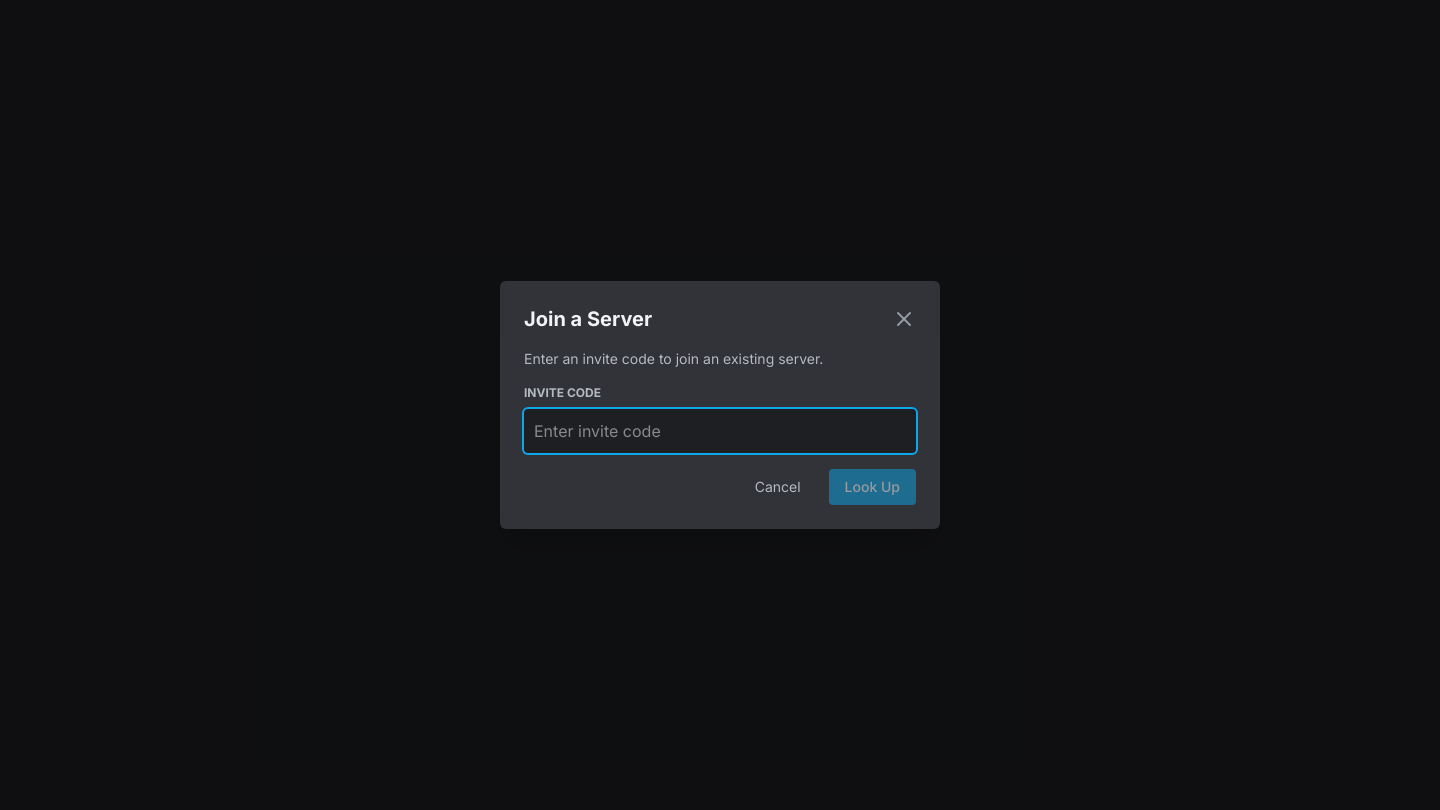
Test: JoinServerModal › displays error for invalid/expired invite code
In the field with placeholder "Enter invite code": [720, 431] box top-left (524, 409), bottom-right (916, 453), type "BADCODE"
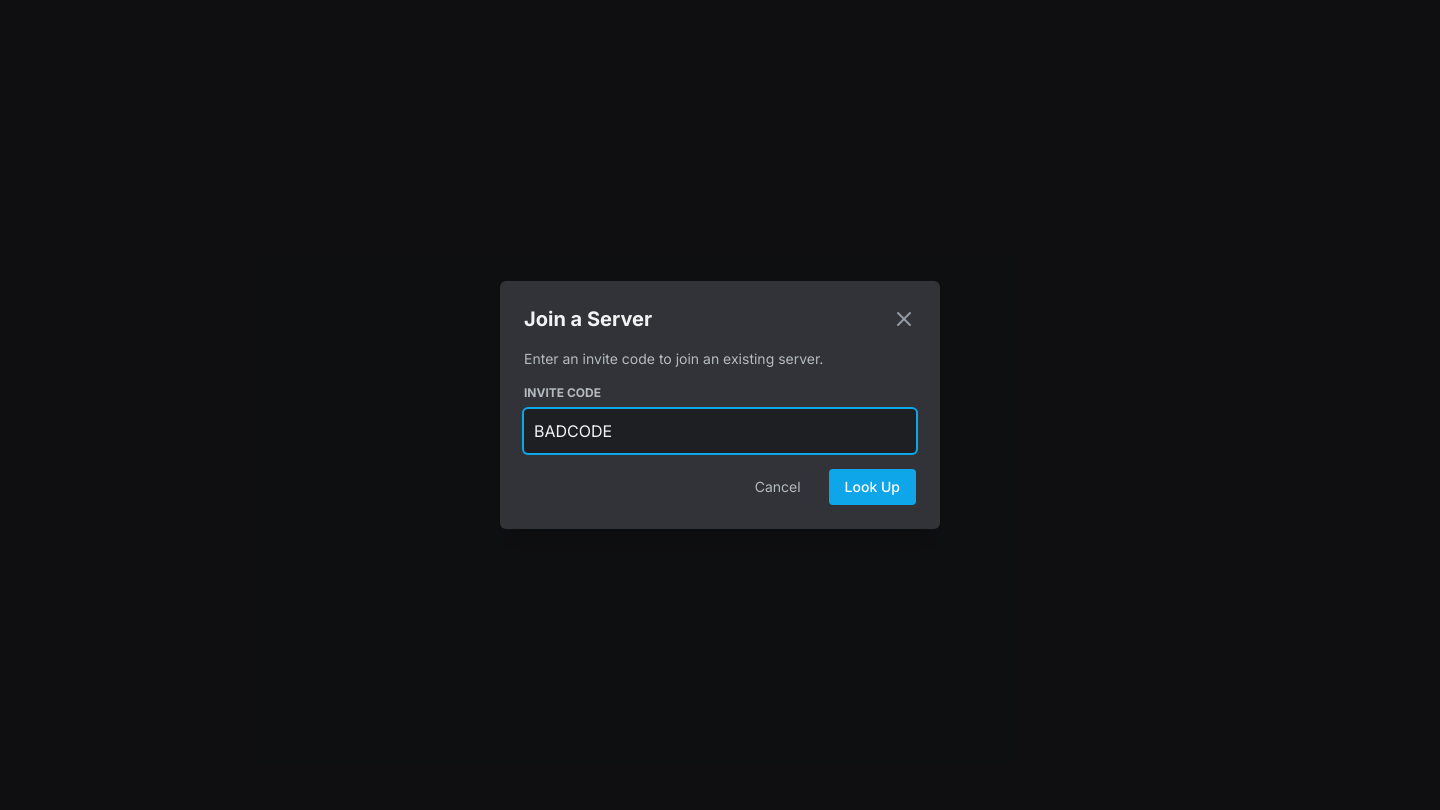
Click the button "Look Up": [872, 487] box top-left (829, 469), bottom-right (916, 505)
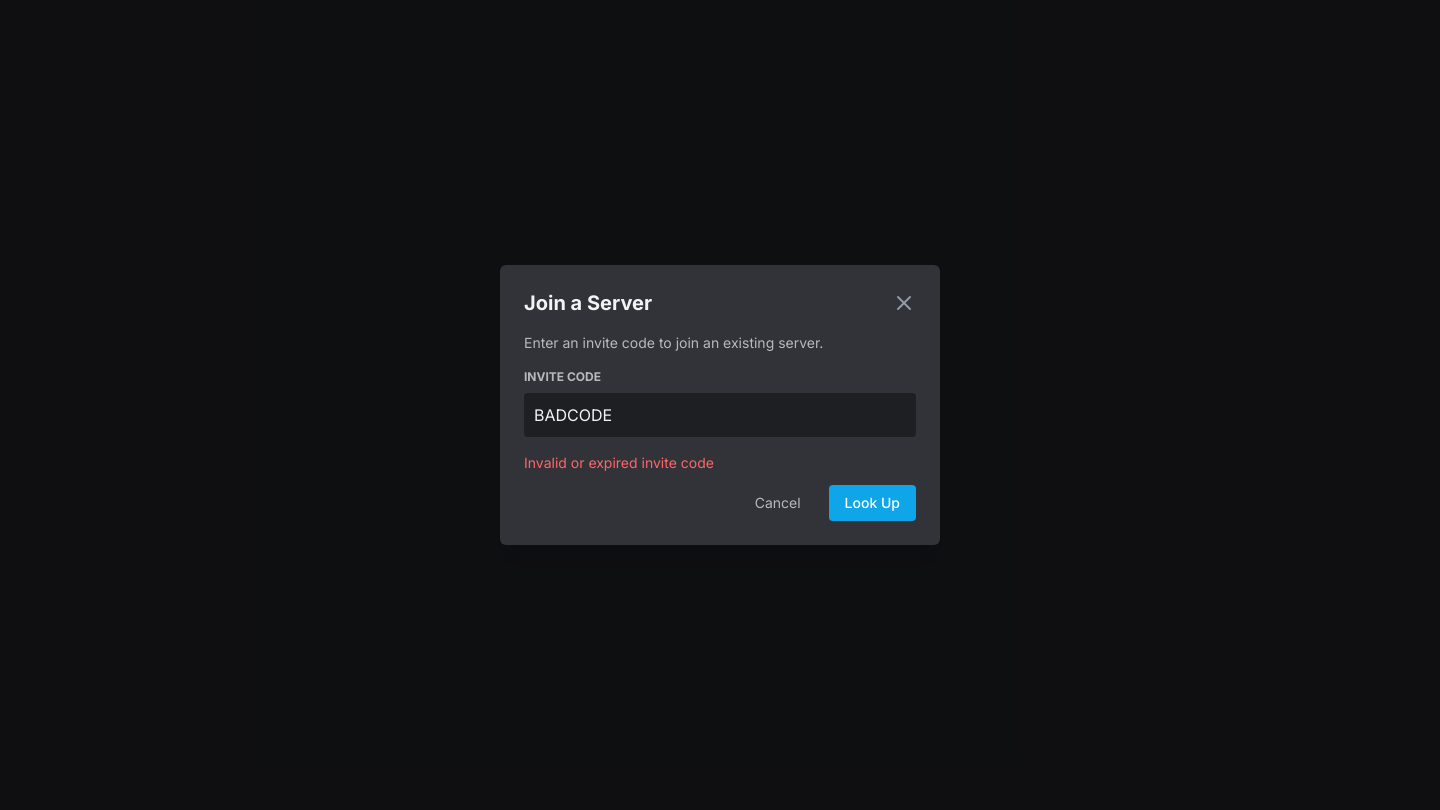
Expected: the text "Invalid or expired invite code" is shown, top-left (524, 454), bottom-right (714, 471)
